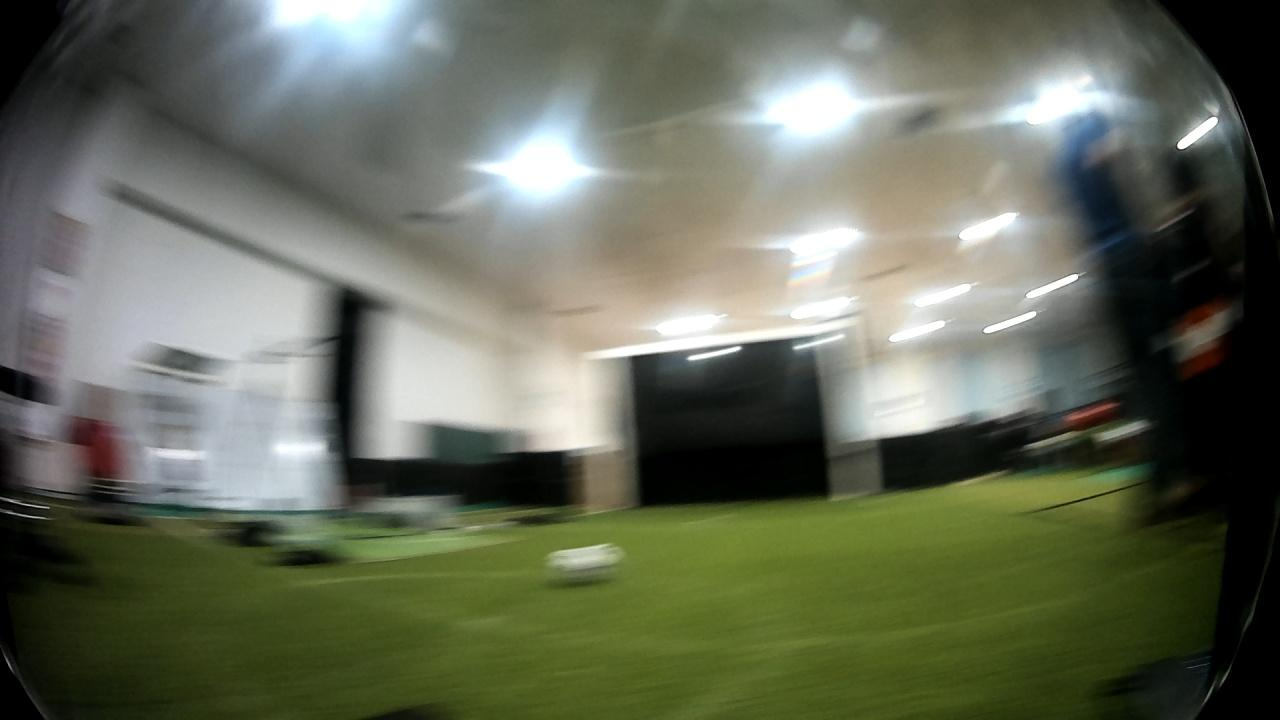ball: (539, 535, 629, 584)
